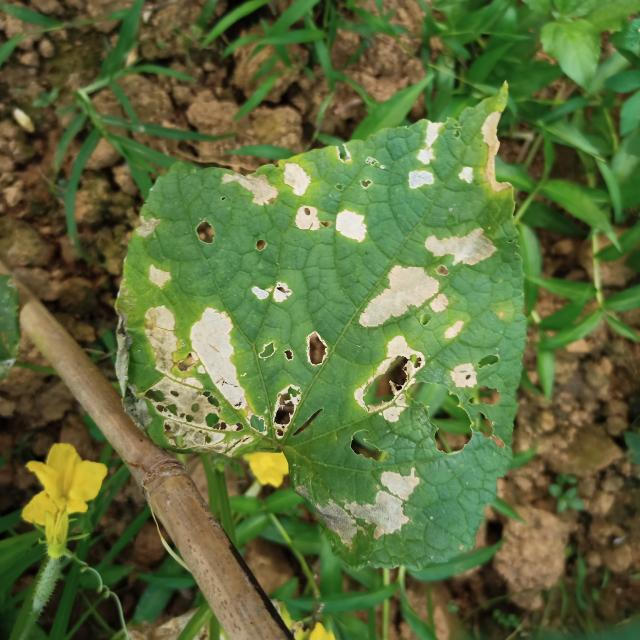disease_cucumber: (93, 305, 512, 551), (127, 112, 555, 321)
